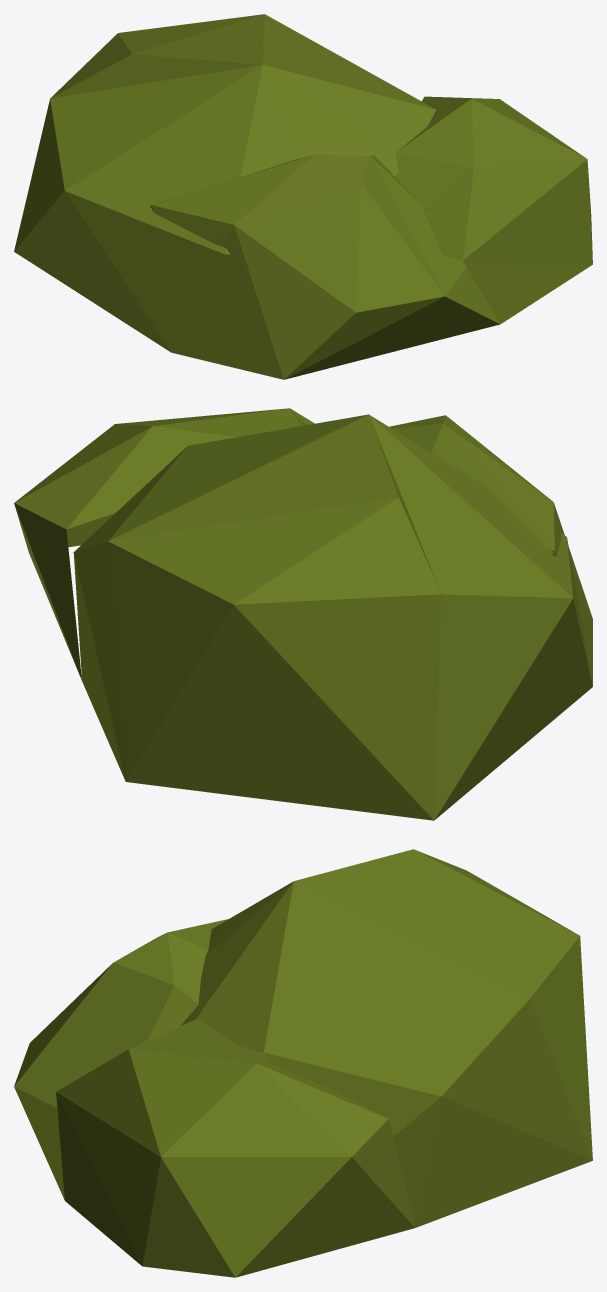
File: Multi Bush 2.glb
The picture shows the model from 3 angles, top to bottom: view 1: azimuth 30°, elevation 25°; view 2: azimuth 150°, elevation 25°; view 3: azimuth 270°, elevation 25°; orthographic projection. The views are drawn at different scales.
Parts seen in each view (by area): view 1: Multi Bush 2; view 2: Multi Bush 2; view 3: Multi Bush 2.
Part boxes in pixels (box(x1,y1,x2,y2)): Multi Bush 2: box(14, 14, 592, 379); Multi Bush 2: box(14, 408, 592, 820); Multi Bush 2: box(14, 849, 592, 1277).
Size of the model in its own units: 0.7223 by 0.3159 by 0.6649.
